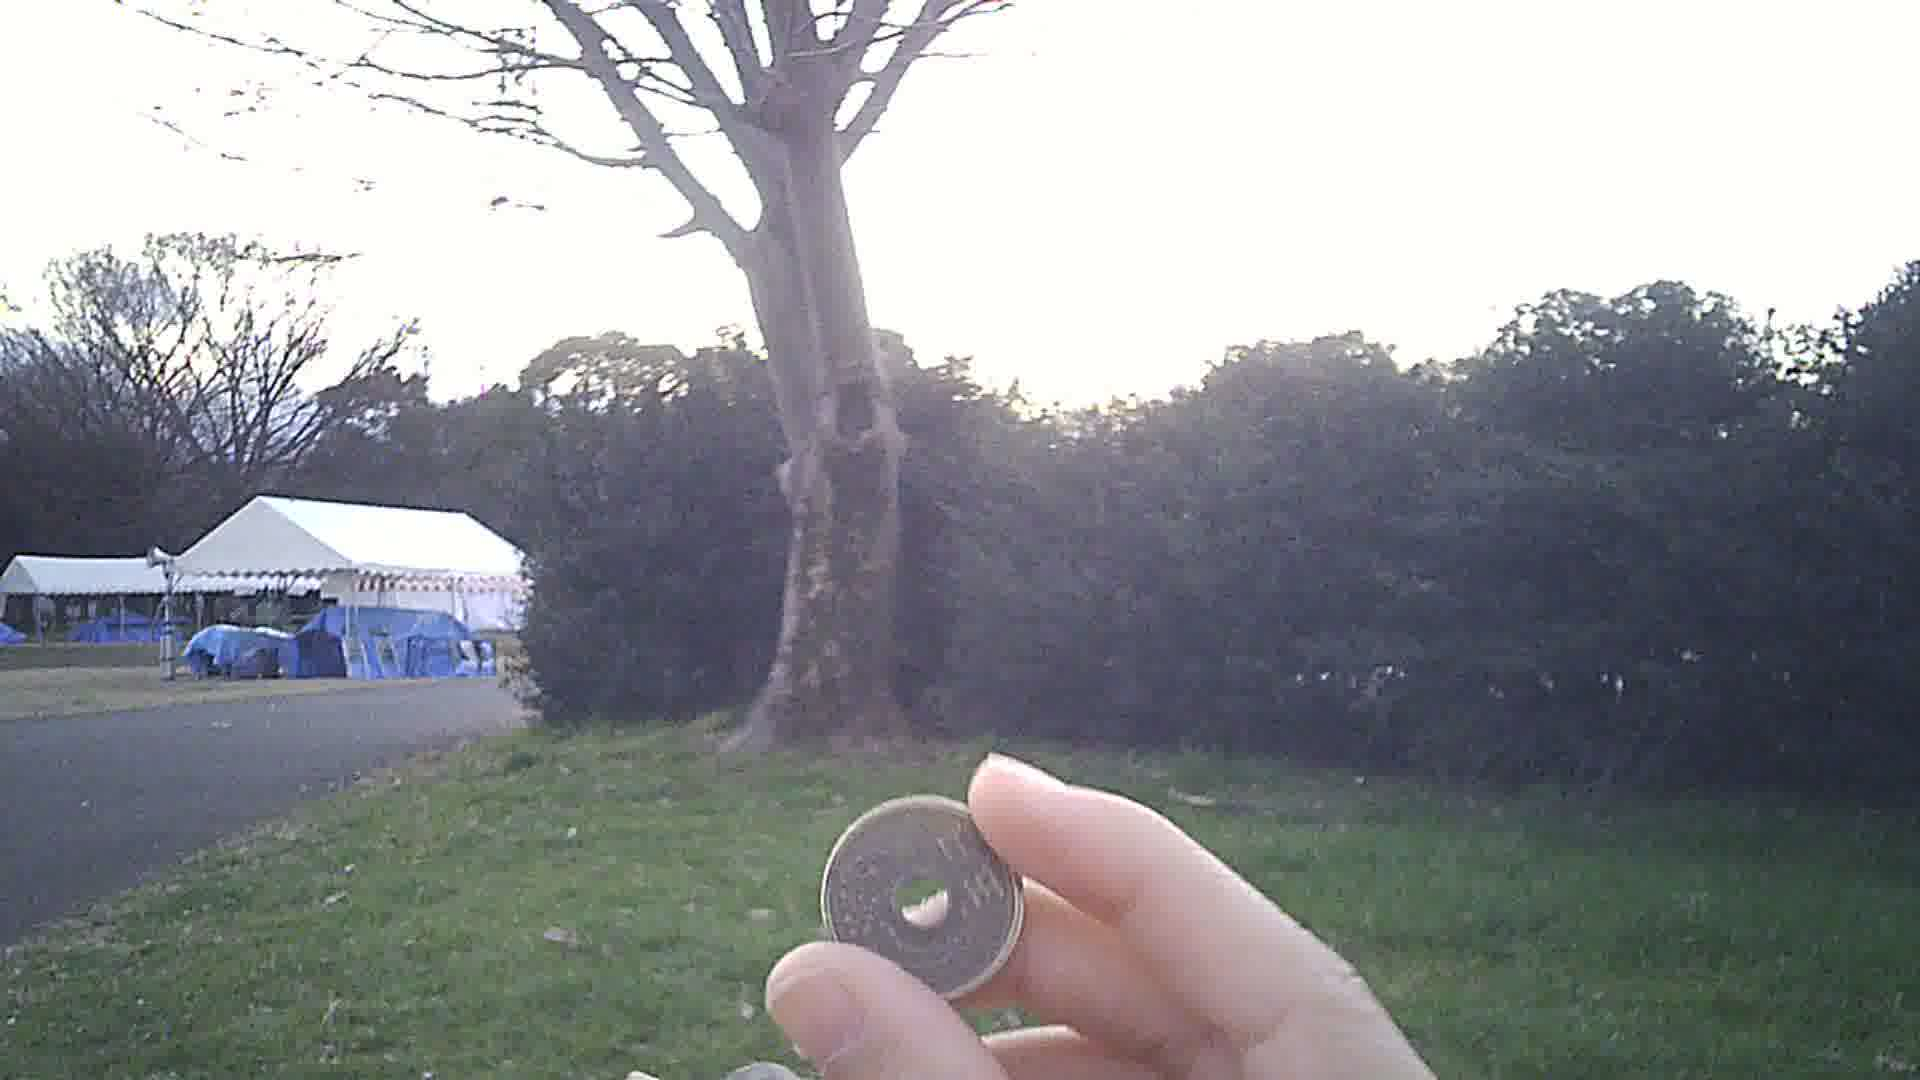5 Yen: (815, 793, 1036, 1001)
